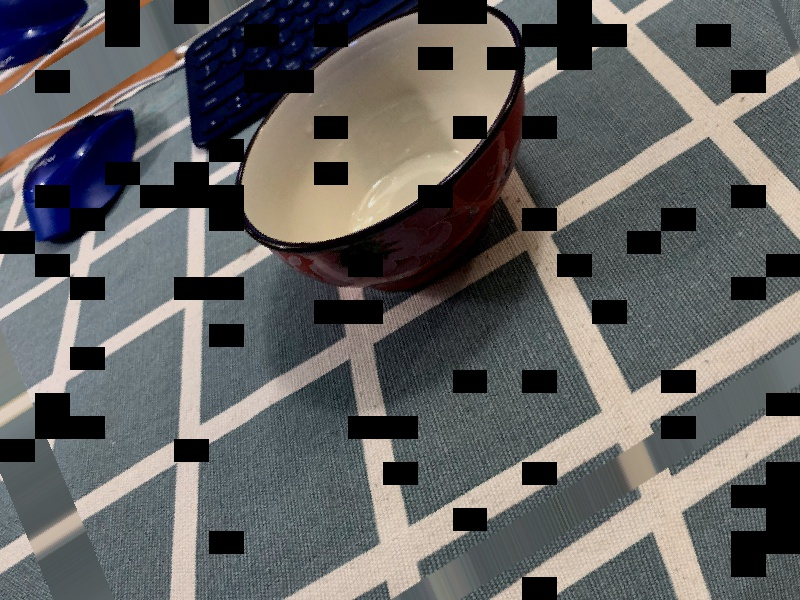bowl_small: (191, 0, 591, 378)
